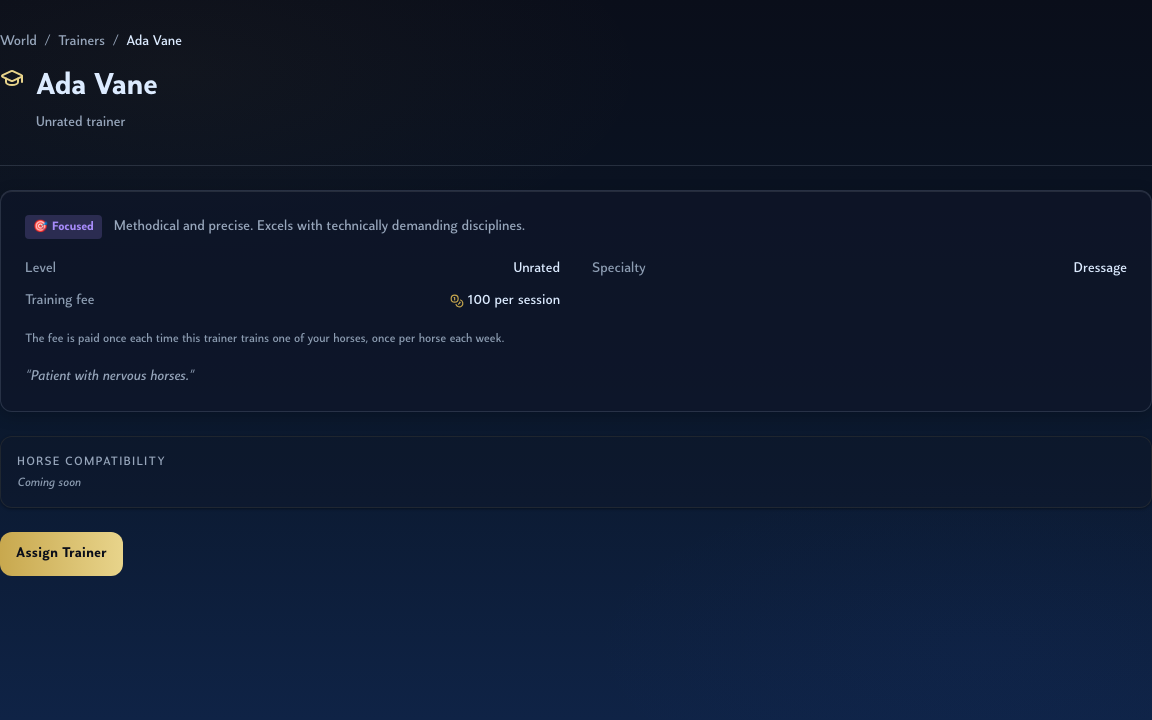
Test: TrainerPage — a trainer on offer (Equoria-r8a6h q82) › Assign Trainer with a horse in view hires and assigns in one request, then confirms
The image size is (1152, 720).
Step 1. Click the button with test id "assign-trainer-button" → click(62, 554), box [0,532,123,576]
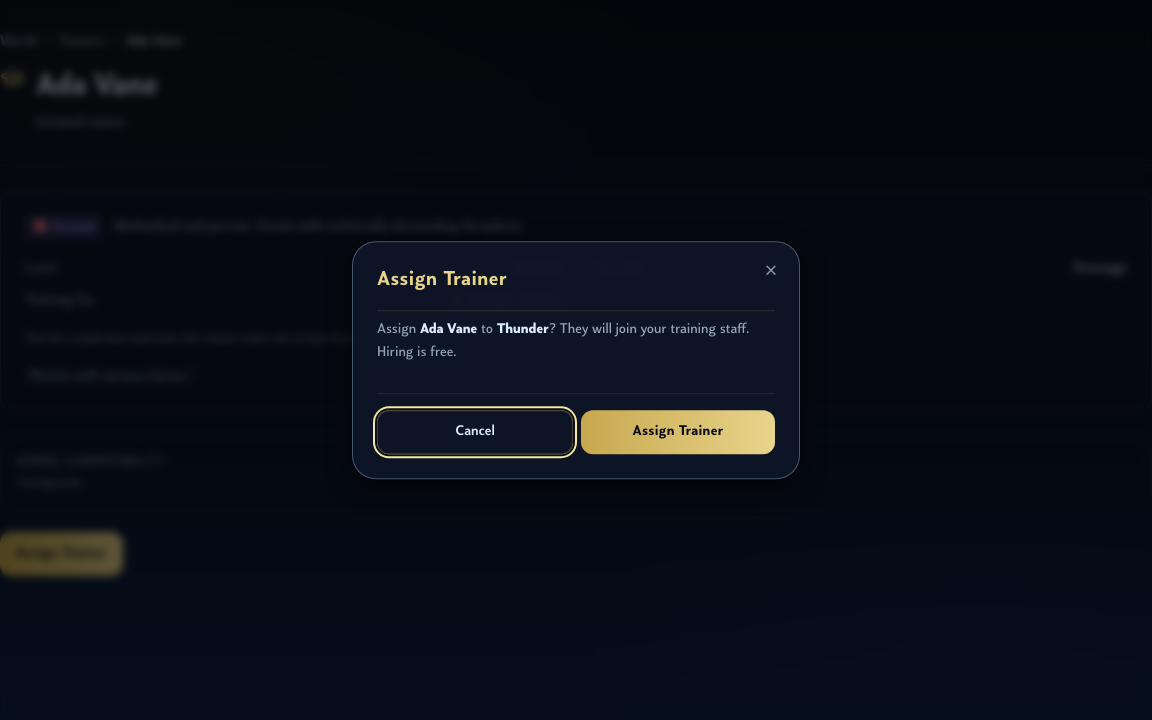
Check: the dialog with test id "assign-trainer-dialog" shows "Thunder", box [497,322,549,337]
Step 2. Click the button with test id "confirm-assign-button" → click(678, 432), box [581,410,775,454]
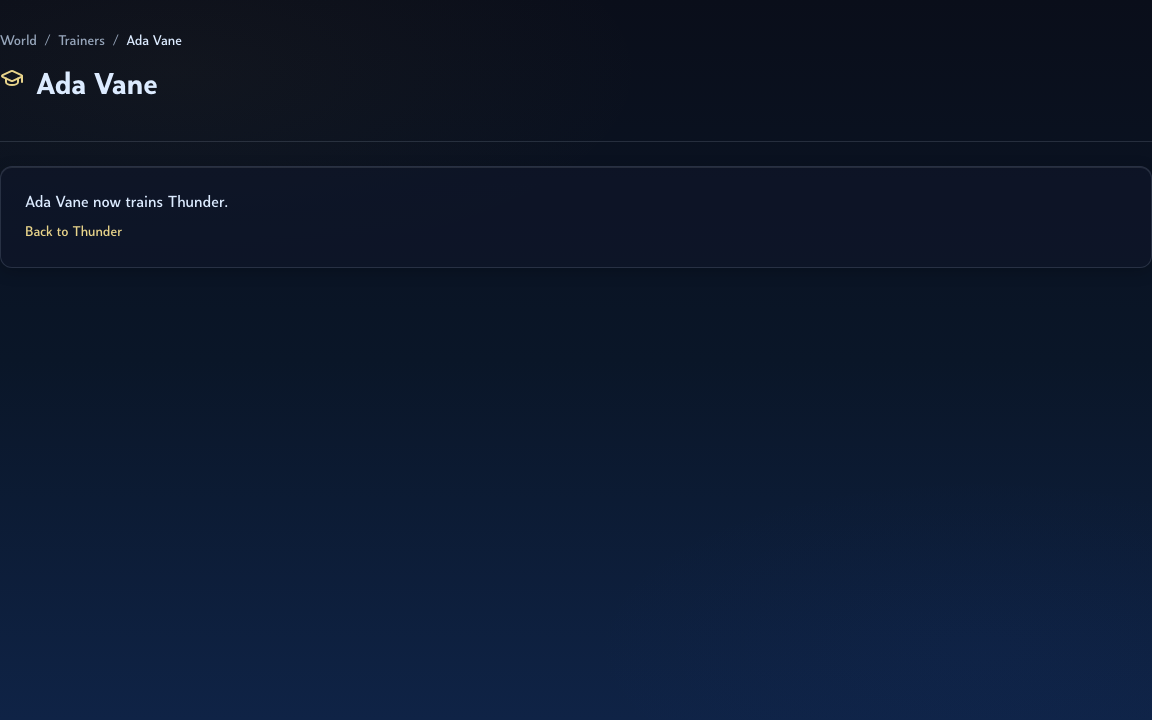
Check: the element with test id "trainer-assigned" shows "Ada Vane now trains", box [0,166,1151,268]
